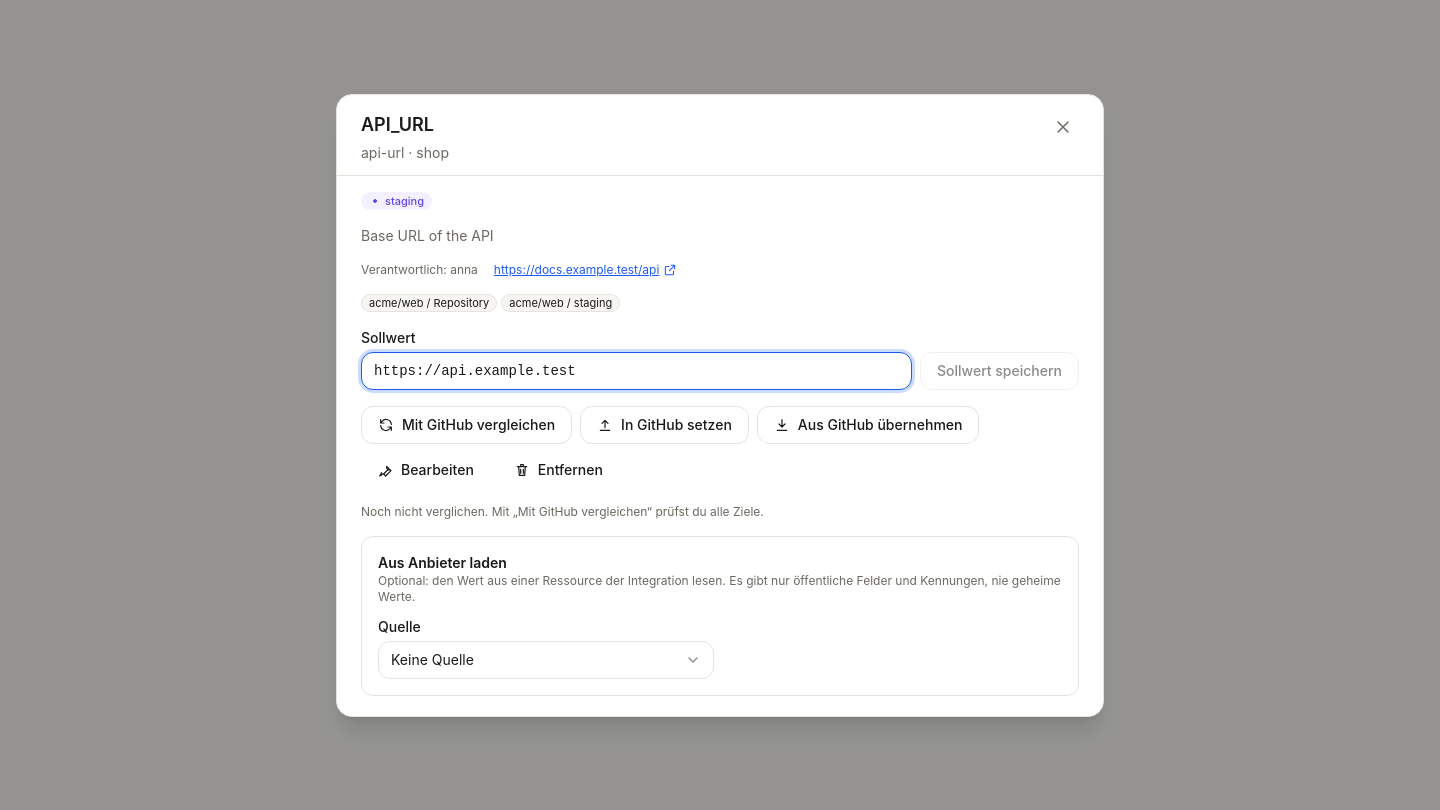
Test case: VariableDetail › asks for the acknowledgement of a suspicious value and sends it with the next save
Type "x" into the field labelled "Sollwert". click: (636, 370)
box: [361, 352, 912, 390]
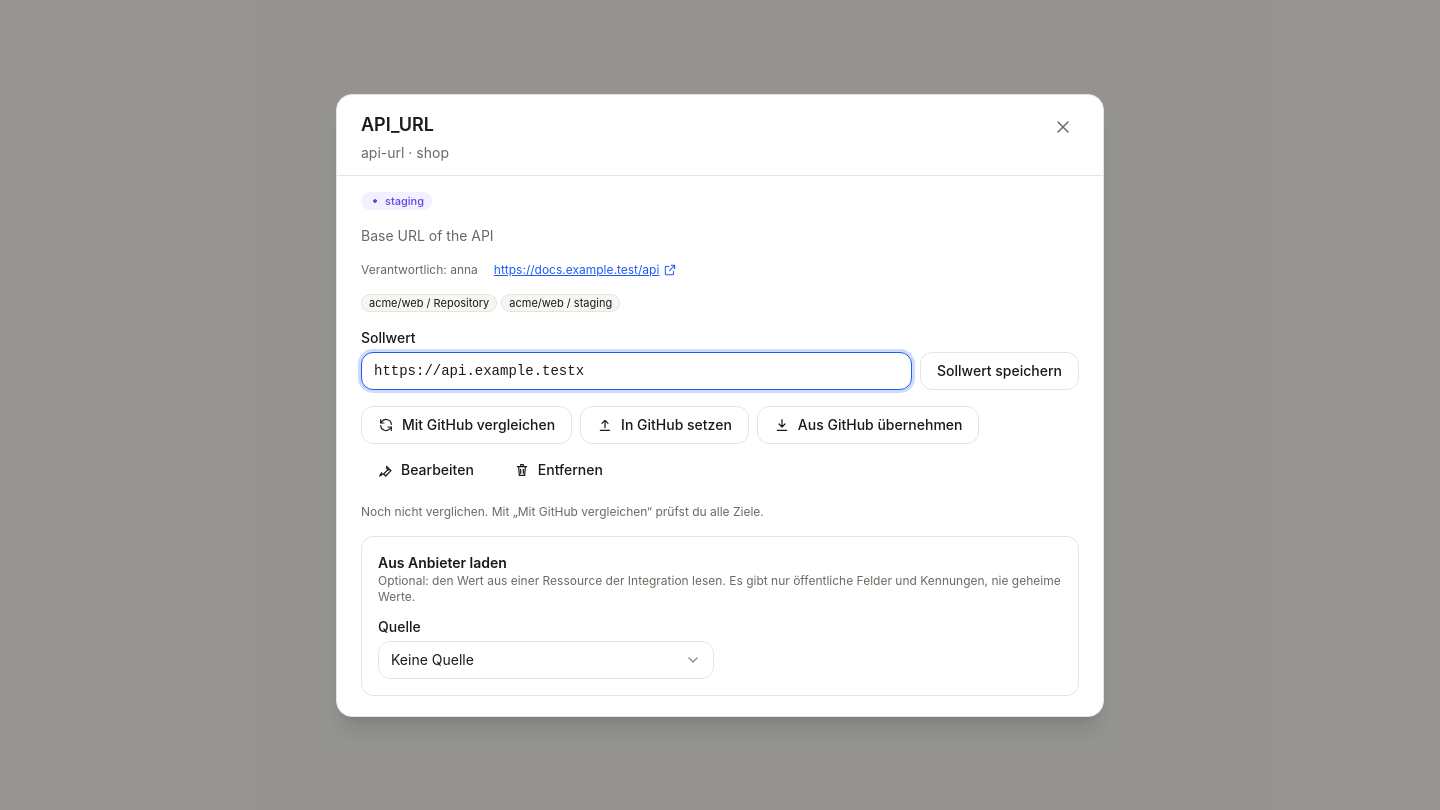
Click the button "Sollwert speichern". click: click(1000, 370)
box: [920, 352, 1079, 390]
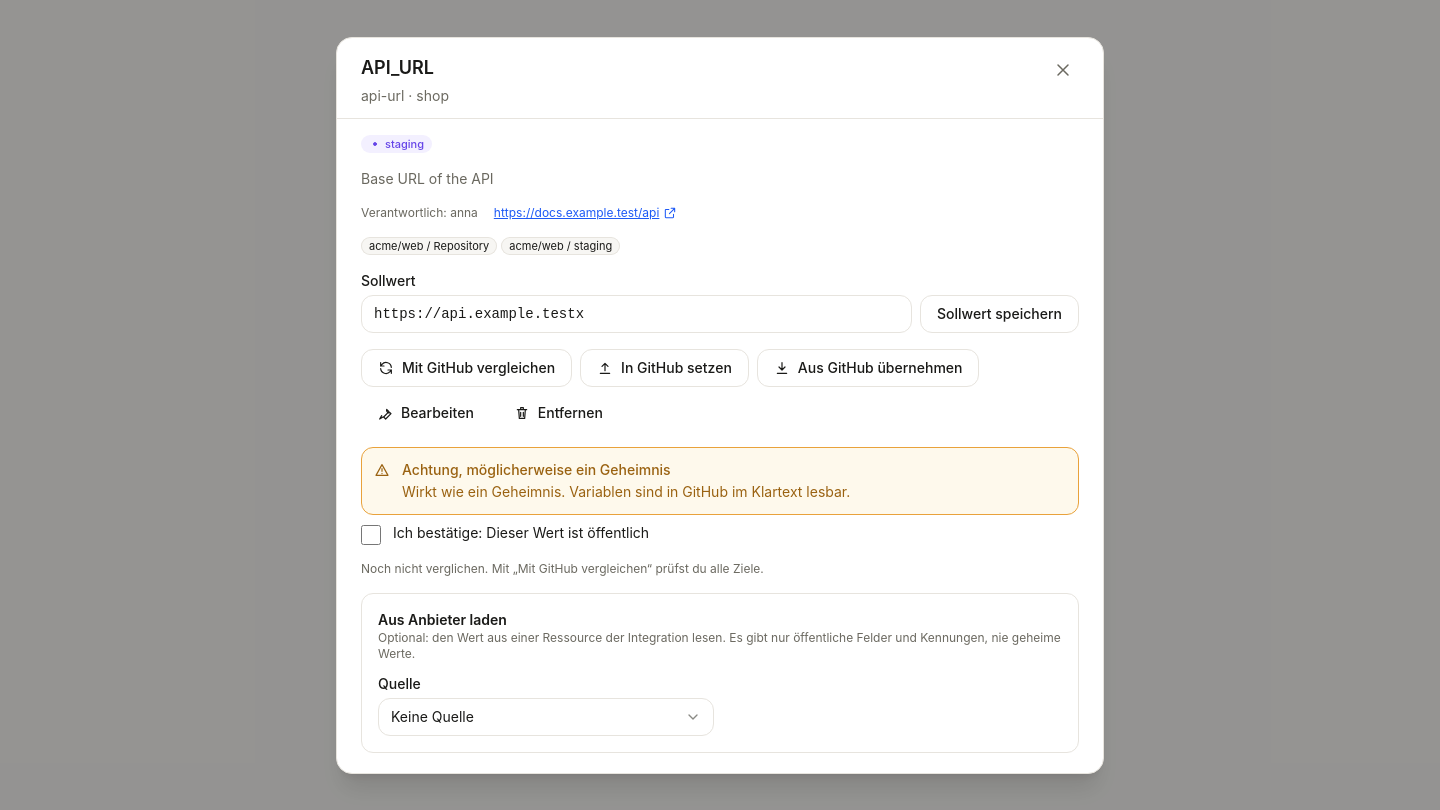
Click the checkbox labelled "Ich bestätige: Dieser Wert ist öffentlich". click: click(371, 534)
box: [361, 524, 381, 544]
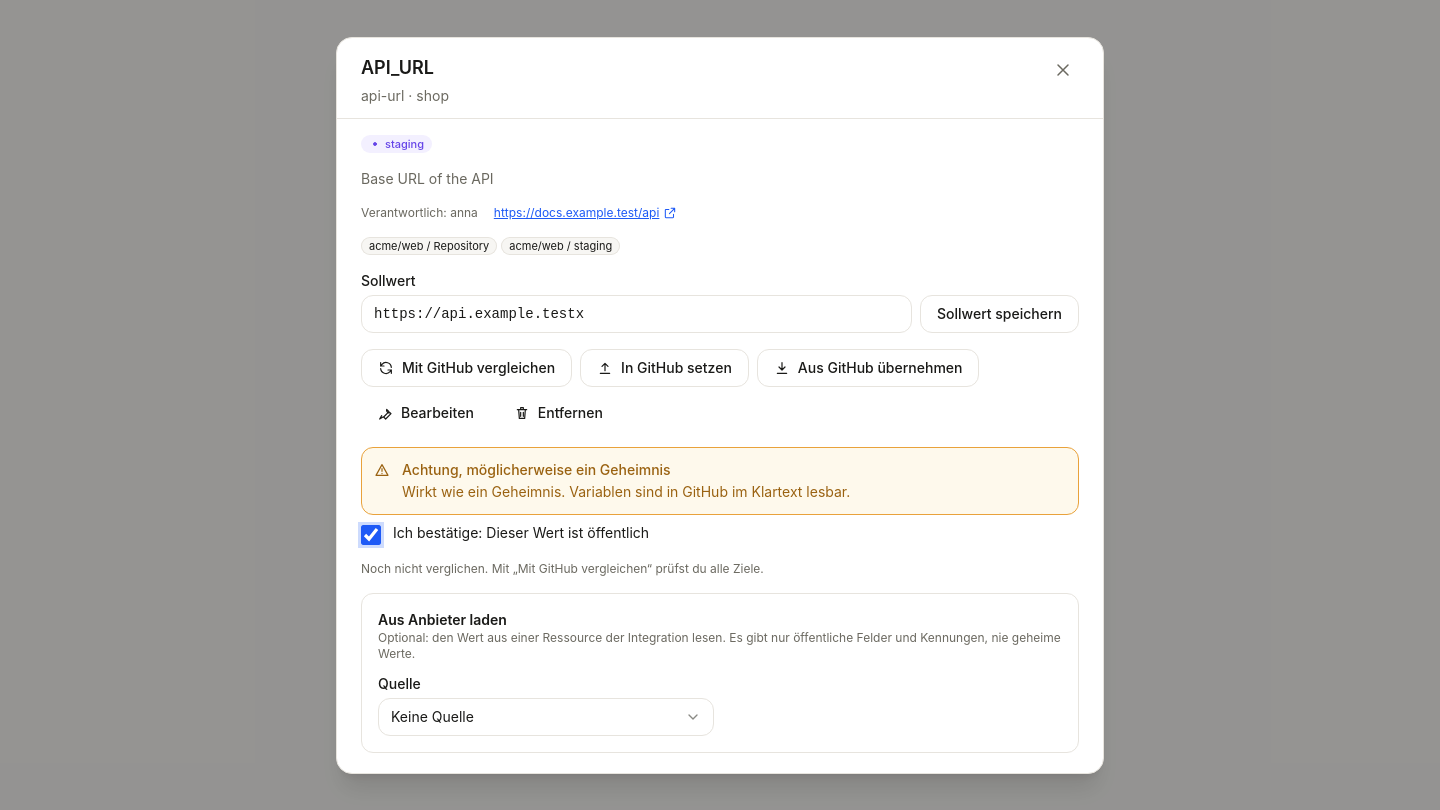
Click the button "Sollwert speichern". click: click(1000, 314)
box: [920, 294, 1079, 332]
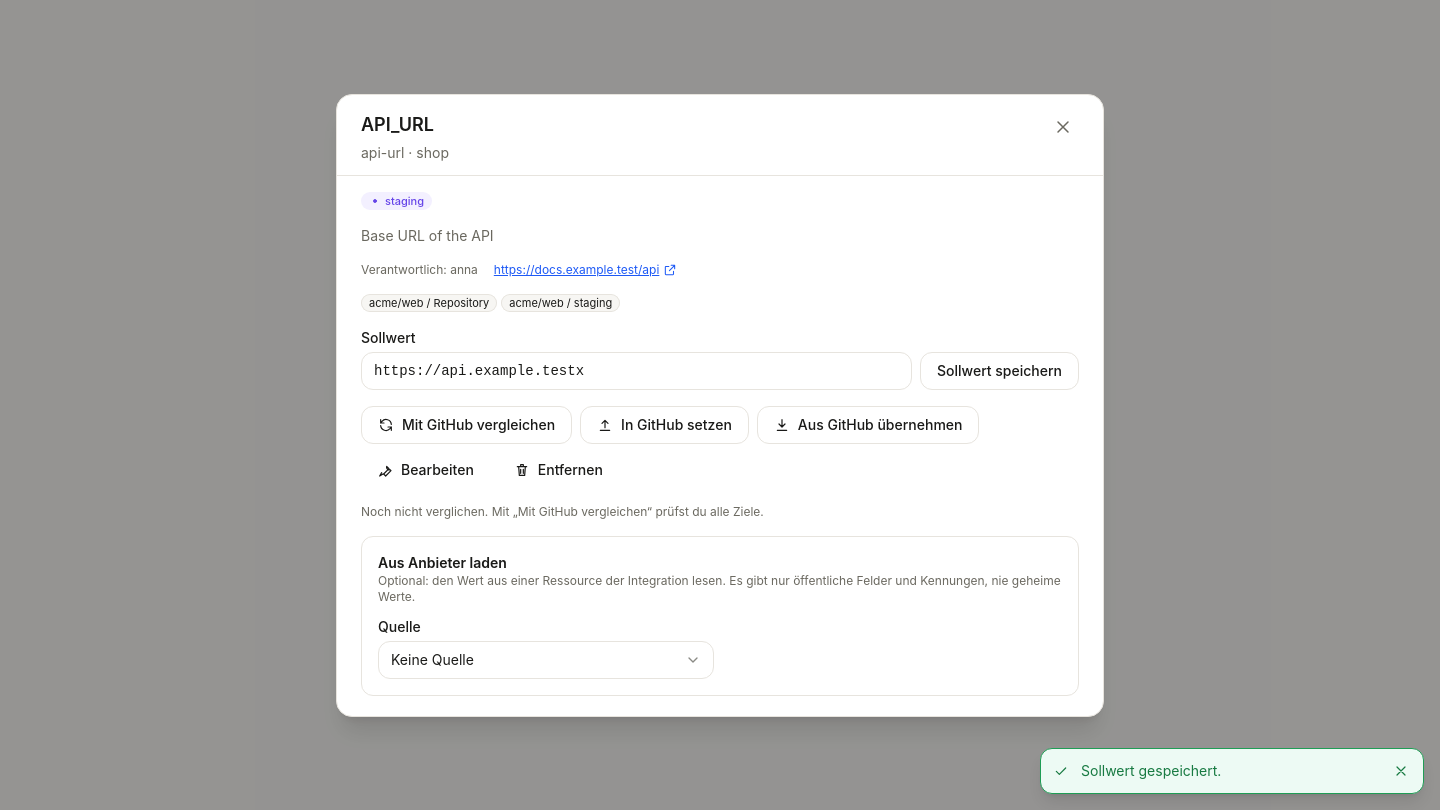
Expected: the text "Sollwert gespeichert." is shown, [1081, 762, 1221, 779]
